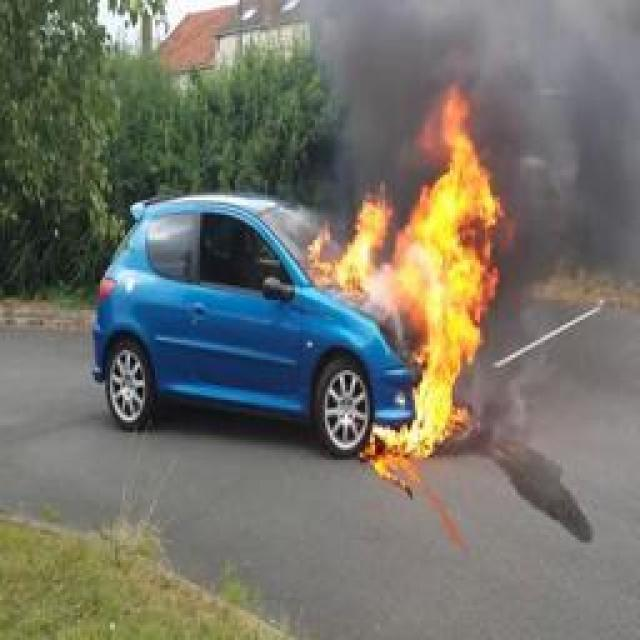Fire: (312, 84, 506, 462)
